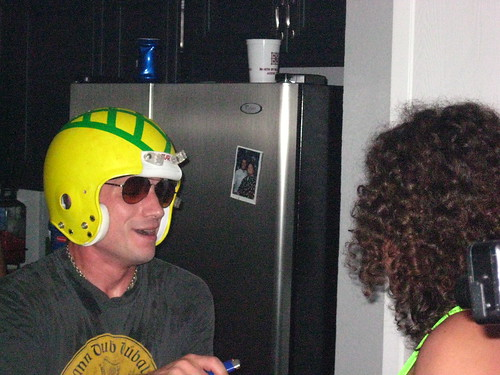helmet: (28, 116, 195, 181)
